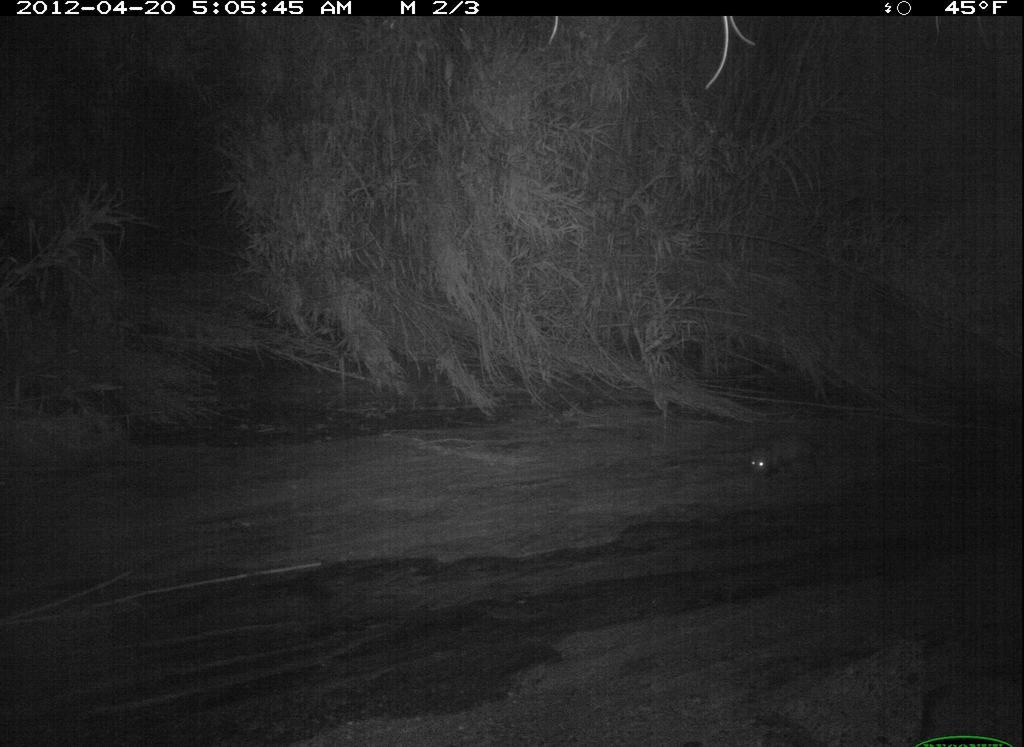opossum: (730, 415, 845, 488)
